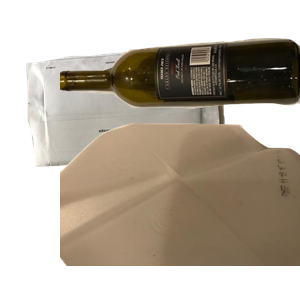glass: (60, 36, 300, 147)
paper: (24, 43, 242, 202)
plastic: (60, 120, 300, 300)
trash: (109, 175, 279, 300)
